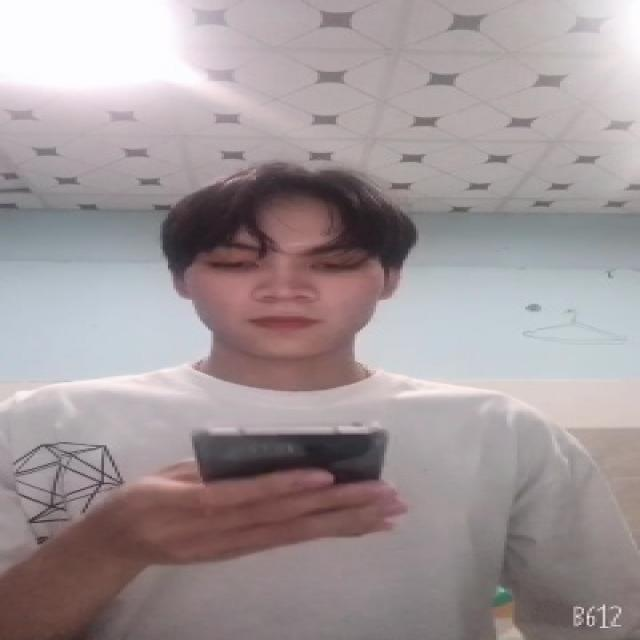Phone: (192, 421, 390, 491)
